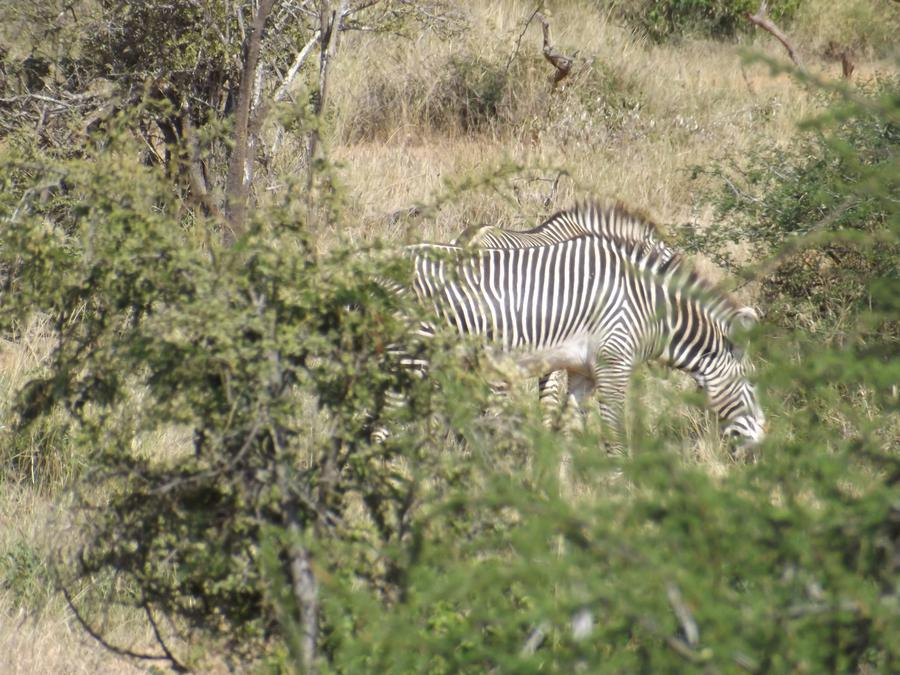zebra_grevys: (450, 232, 639, 372)
